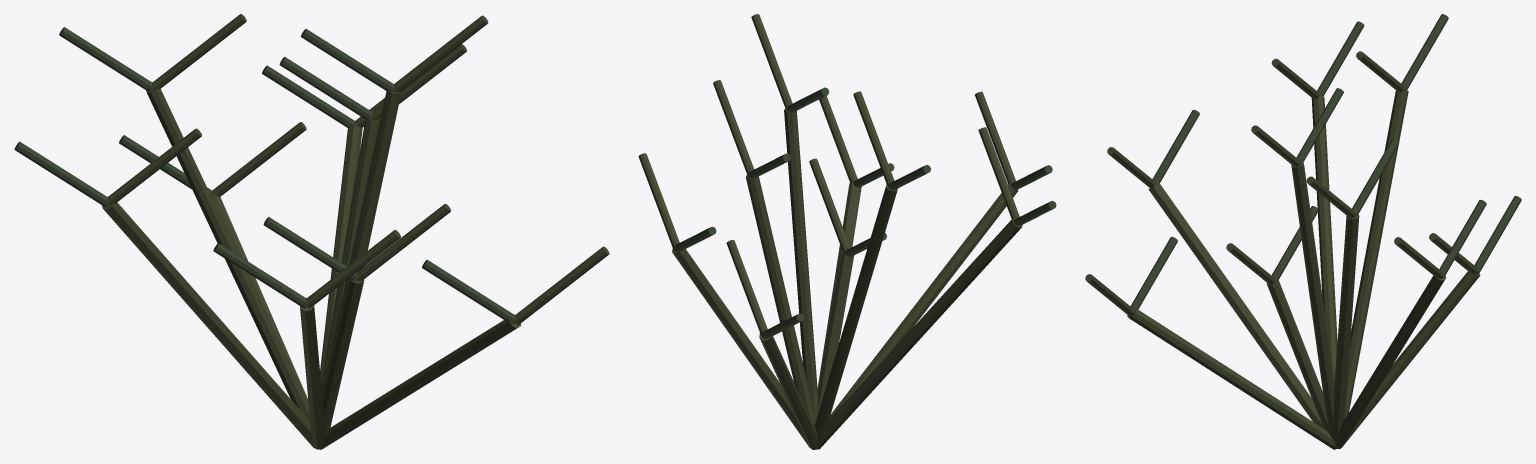
Rendered from deadBrushInstances.obj.
The picture shows the model from 3 angles, left to right: view 1: azimuth 30°, elevation 25°; view 2: azimuth 150°, elevation 25°; view 3: azimuth 270°, elevation 25°; orthographic projection. The views are drawn at different scales.
Visible parts, largest first — view 1: deadBrushInstances; view 2: deadBrushInstances; view 3: deadBrushInstances.
Part boxes in pixels (x1,y1,x2,y2): deadBrushInstances: (14,14,609,449); deadBrushInstances: (638,14,1056,449); deadBrushInstances: (1085,14,1521,449).
Size of the model in its own units: 1.05 by 0.9582 by 1.02.
1 material, 1 textured.
